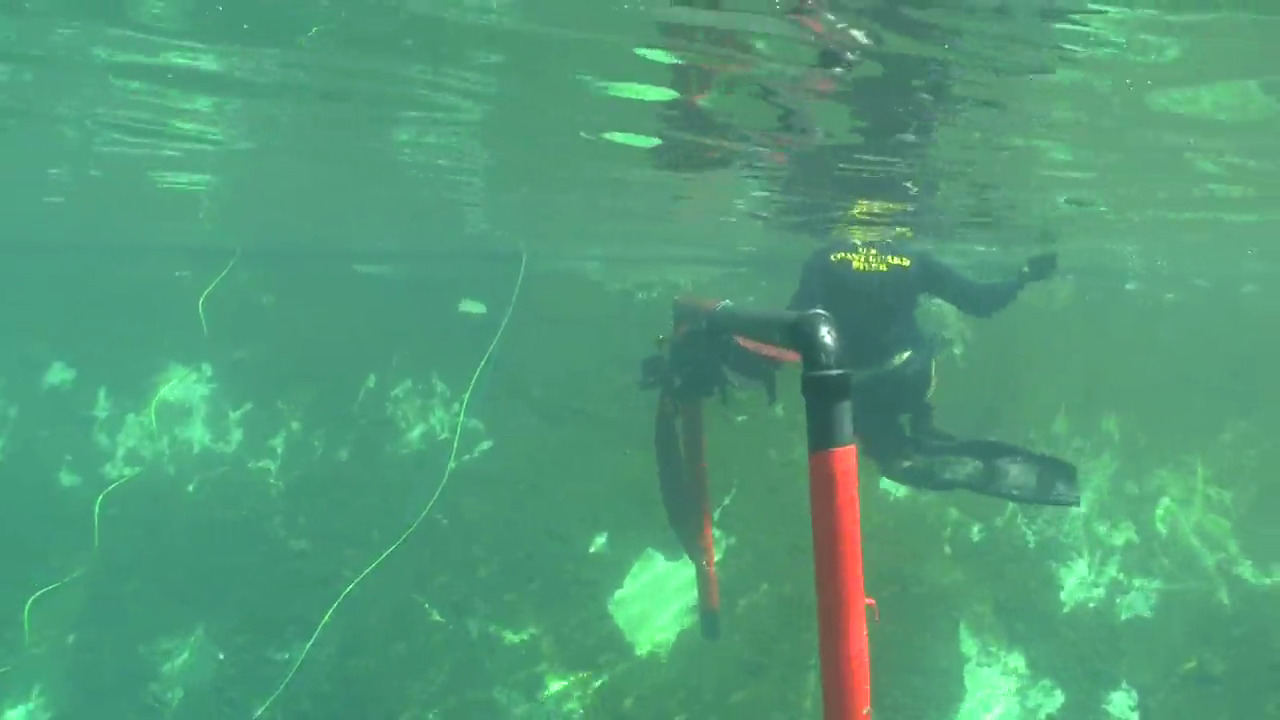gate: (654, 285, 881, 720)
